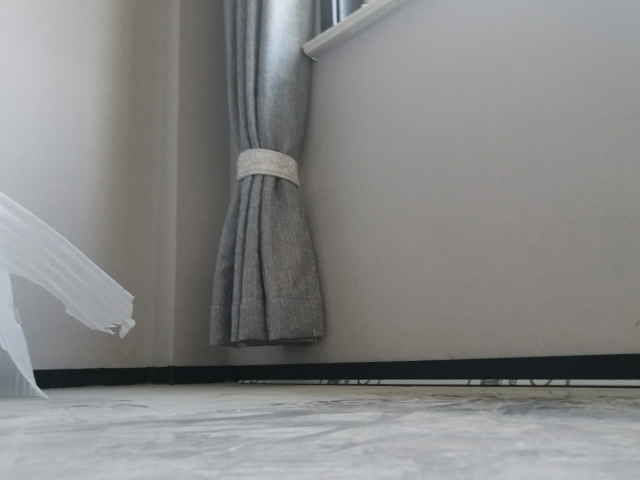curtain: (206, 1, 331, 349)
